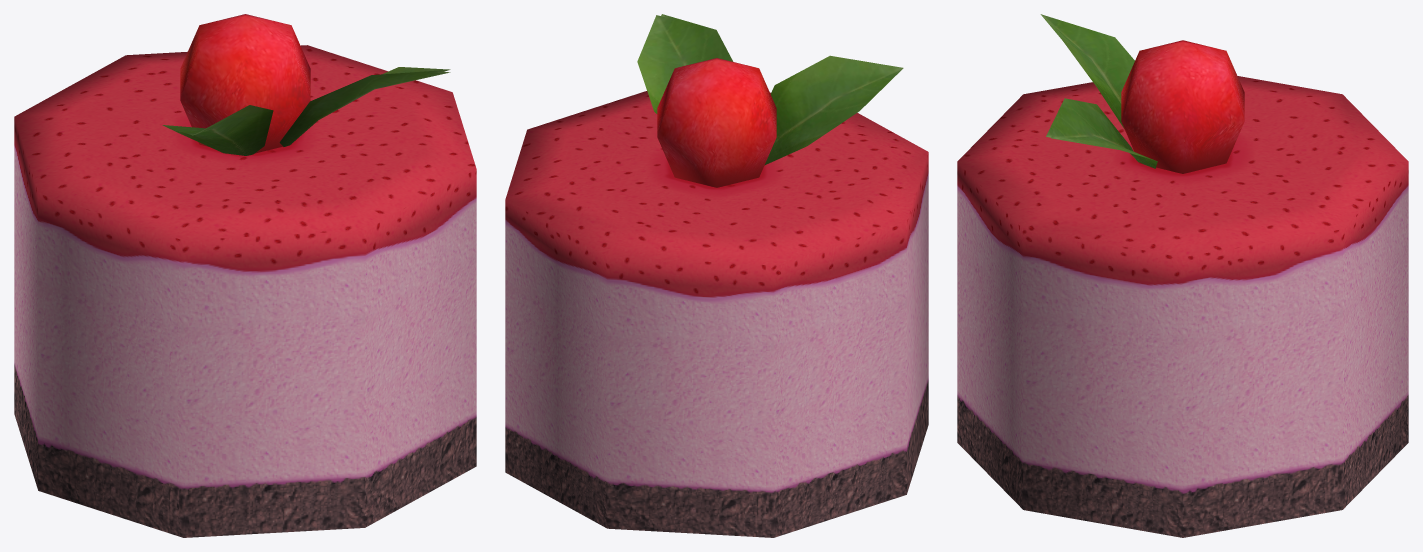
File: MousseCake.fbx
3 renders of one model, left to right at view 1: azimuth 30°, elevation 25°; view 2: azimuth 150°, elevation 25°; view 3: azimuth 270°, elevation 25°, orthographic. The views are drawn at different scales.
Visible parts, largest first — view 1: Empty_Mesh; view 2: Empty_Mesh; view 3: Empty_Mesh.
Boxes of the visible parts, box(x1,y1,x2,y2) form: Empty_Mesh: box(14, 14, 476, 537); Empty_Mesh: box(505, 14, 928, 537); Empty_Mesh: box(957, 14, 1408, 537).
Bounding box in the file's own units: 0.32 × 0.3127 × 0.32.
